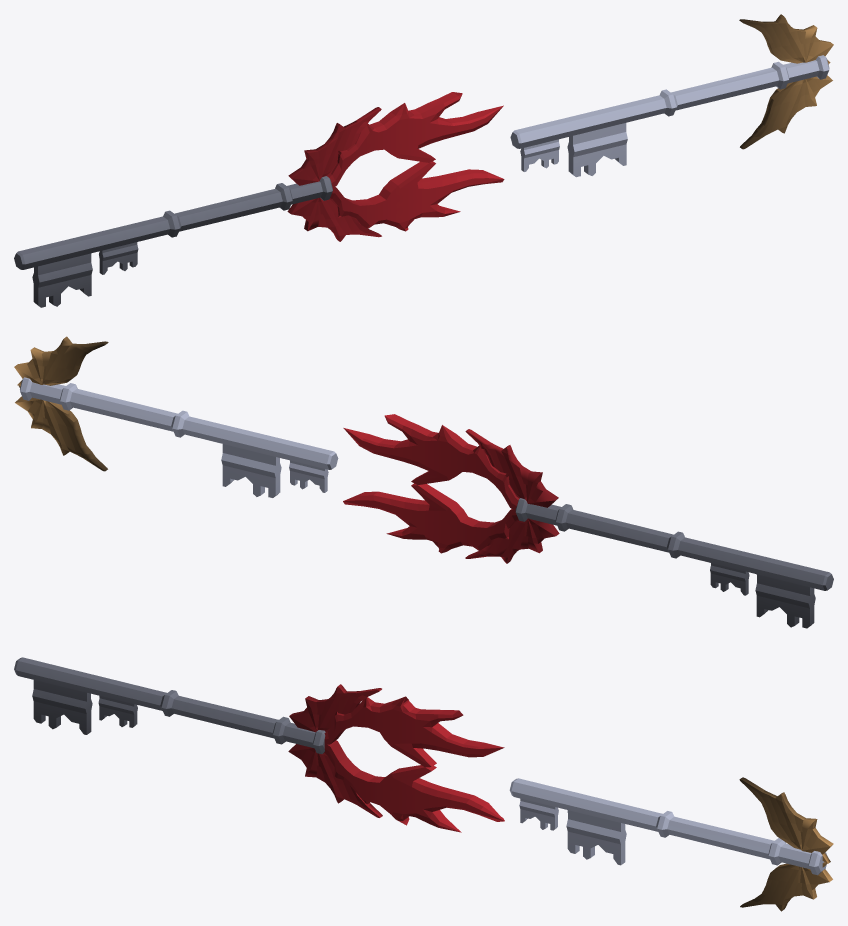
File: Key_1.fbx
3 renders of one model, top to bottom at view 1: azimuth 30°, elevation 25°; view 2: azimuth 150°, elevation 25°; view 3: azimuth 330°, elevation 25°, orthographic.
Parts seen in each view (by area): view 1: Key_1, Key_1.001; view 2: Key_1, Key_1.001; view 3: Key_1, Key_1.001.
Part boxes in pixels (x1,y1,x2,y2): Key_1: [14, 92, 504, 307]; Key_1.001: [510, 14, 833, 177]; Key_1: [343, 414, 833, 628]; Key_1.001: [14, 336, 338, 497]; Key_1: [14, 657, 504, 832]; Key_1.001: [509, 777, 833, 911].
Size of the model in its own units: 77.68 by 11.86 by 2.27.
1 material, 1 textured.
